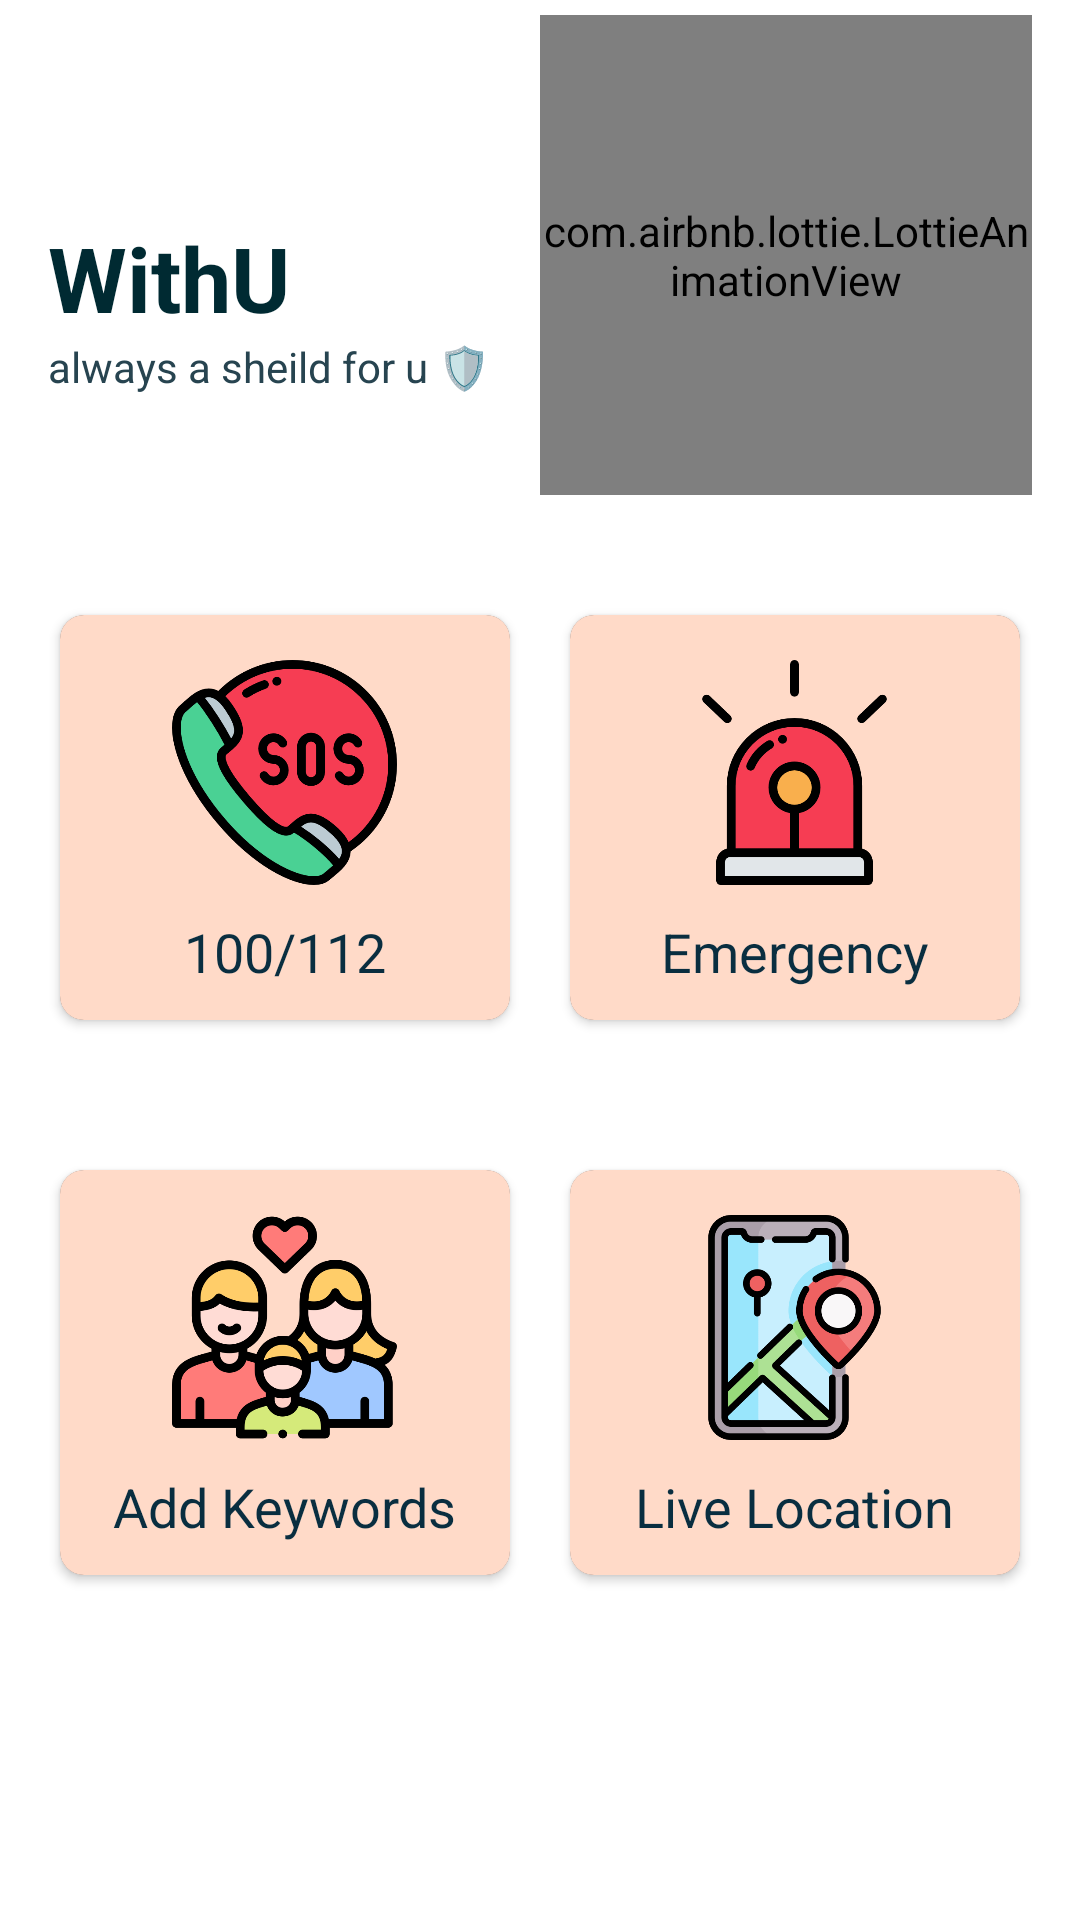

Named icons in this screenshot (1080x1920) and their bounding boxes, (x1, y1, x2, y2):
family: (172, 1216, 397, 1439)
sirens: (702, 660, 887, 885)
smartphone: (708, 1215, 881, 1440)
